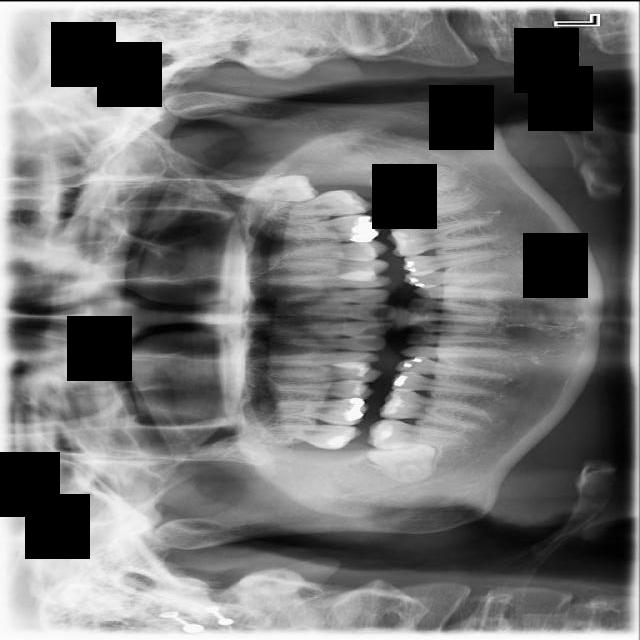52: (363, 411, 421, 458), (385, 220, 435, 259), (378, 386, 431, 422), (305, 423, 363, 450), (319, 396, 370, 426), (333, 212, 382, 243), (331, 359, 384, 384), (327, 377, 374, 401), (395, 354, 435, 376), (391, 370, 429, 392), (404, 254, 441, 276), (404, 269, 443, 289)
73: (580, 30, 604, 38)
BioHorizons Implant: (264, 186, 376, 223)
BioLife Implant: (225, 171, 320, 210)
Biomet 3i Implant: (367, 159, 469, 208)
Blue Sky Bio Implant: (374, 188, 483, 231)
Caries: (262, 423, 364, 451)
Implant: (363, 416, 472, 450)
Keystone Dental Implant: (364, 437, 438, 486)
